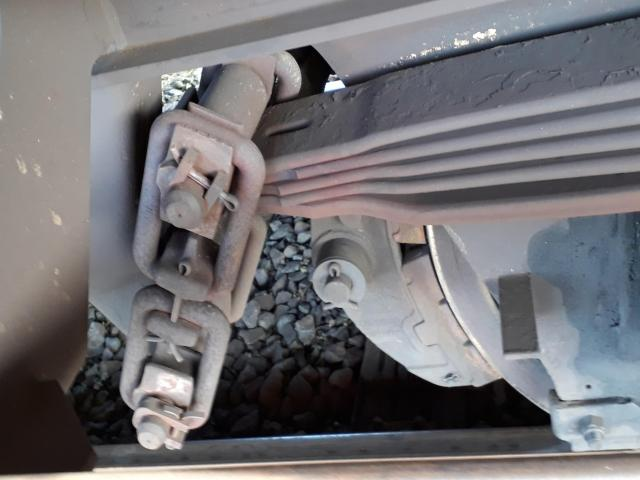blattfederww: (264, 94, 640, 215)
